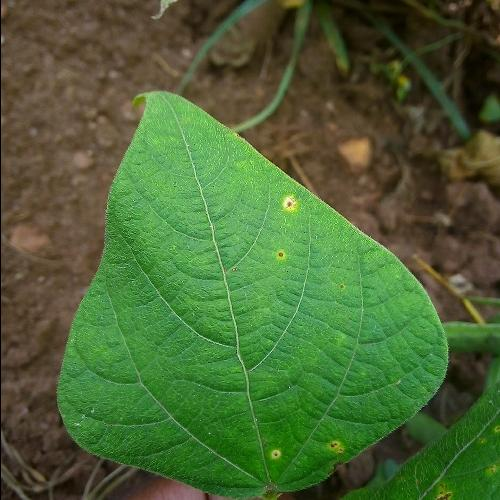hawar: (246, 420, 368, 489), (248, 191, 330, 287)
sehat: (53, 162, 214, 459)
